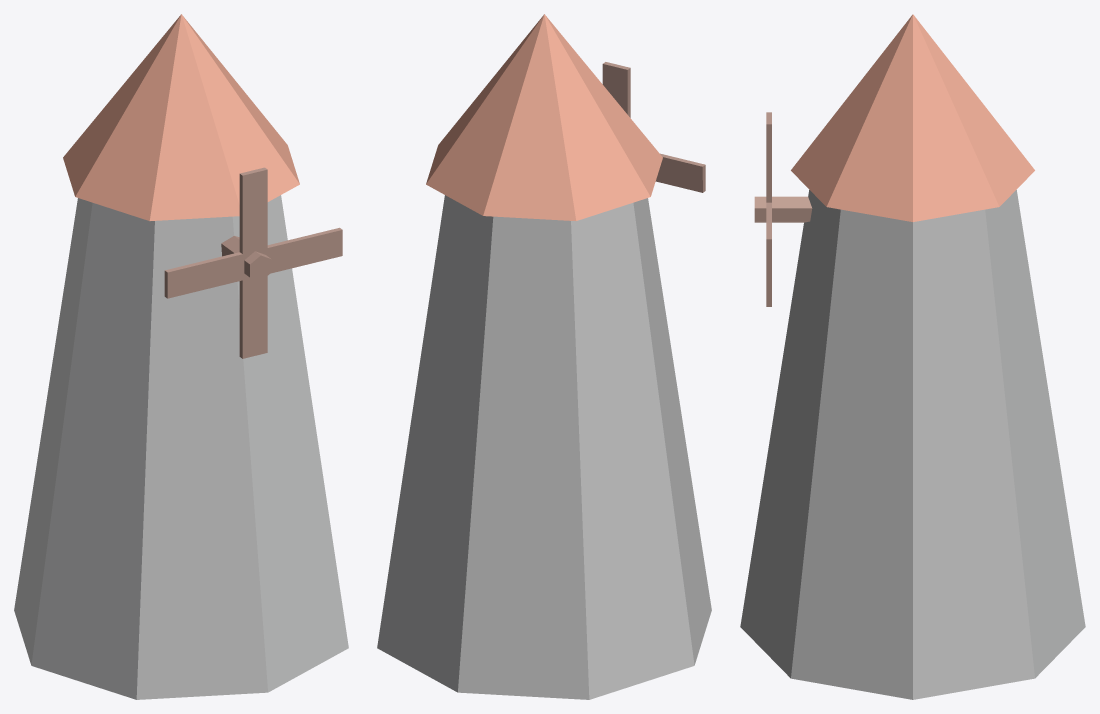
File: low_poly_windmill.glb
3 renders of one model, left to right at view 1: azimuth 30°, elevation 25°; view 2: azimuth 150°, elevation 25°; view 3: azimuth 270°, elevation 25°, orthographic.
Visible parts, largest first — view 1: Windmill; view 2: Windmill; view 3: Windmill.
Boxes of the visible parts, x1,y1,x2,y2 form: Windmill: (14,14,348,699); Windmill: (377,14,711,699); Windmill: (740,14,1085,699).
Size of the model in its own units: 2.4 by 4.7 by 2.4.
